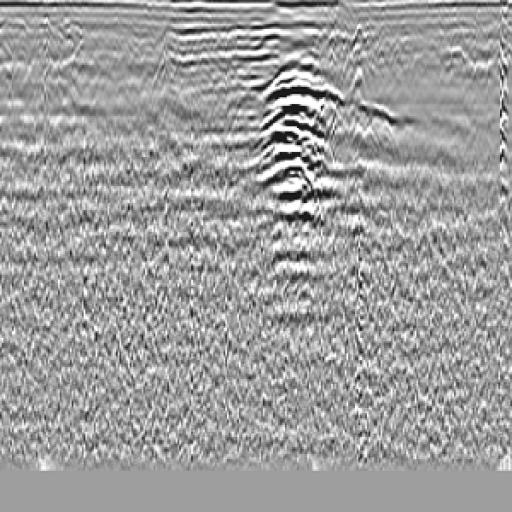metalic: (225, 30, 362, 283)
